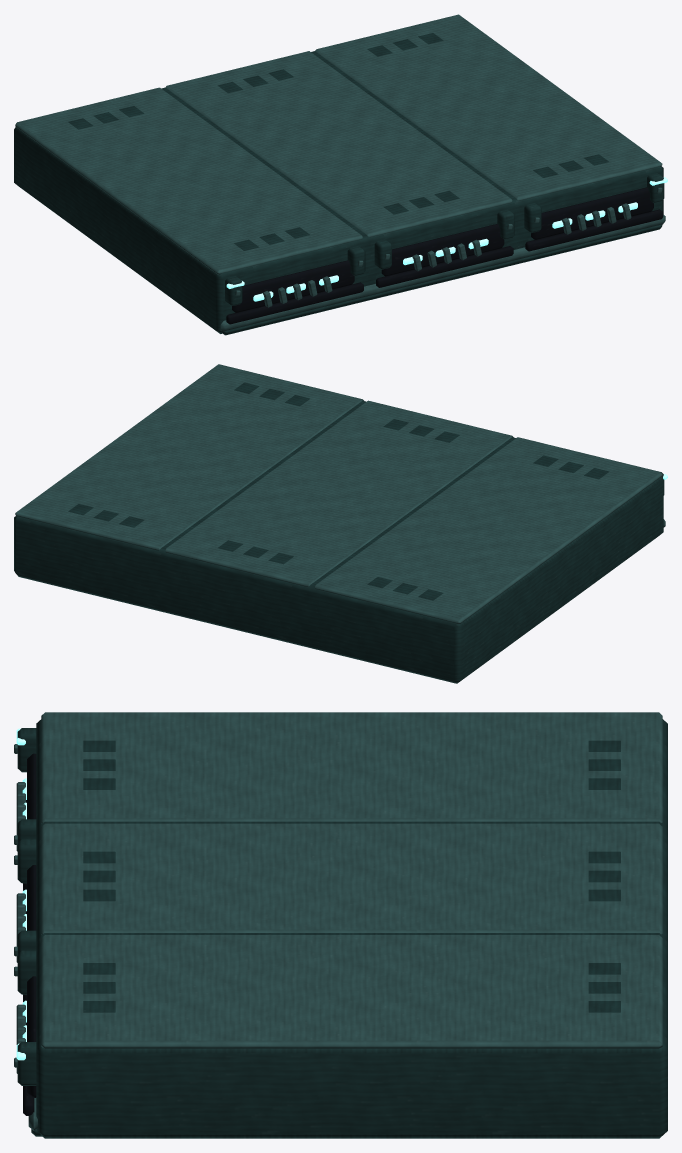
Rendered from abyssal_plant_deck.glb.
The picture shows the model from 3 angles, top to bottom: view 1: azimuth 30°, elevation 25°; view 2: azimuth 150°, elevation 25°; view 3: azimuth 270°, elevation 25°; orthographic projection. The views are drawn at different scales.
Visible parts, largest first — view 1: abyssal_plant_deck - abyssal_plant trim, abyssal_plant_deck - abyssal_plant panels, abyssal_plant_deck - Recessed iron, abyssal_plant_deck - abyssal_plant accents; view 2: abyssal_plant_deck - abyssal_plant trim, abyssal_plant_deck - abyssal_plant panels; view 3: abyssal_plant_deck - abyssal_plant trim, abyssal_plant_deck - abyssal_plant panels, abyssal_plant_deck - Recessed iron.
Part boxes in pixels (x1,y1,x2,y2): abyssal_plant_deck - abyssal_plant trim: (15, 14, 665, 331); abyssal_plant_deck - abyssal_plant panels: (14, 33, 664, 335); abyssal_plant_deck - Recessed iron: (226, 187, 663, 324); abyssal_plant_deck - abyssal_plant accents: (226, 177, 667, 301); abyssal_plant_deck - abyssal_plant trim: (15, 364, 665, 624); abyssal_plant_deck - abyssal_plant panels: (14, 382, 664, 683); abyssal_plant_deck - abyssal_plant trim: (14, 712, 662, 1130); abyssal_plant_deck - abyssal_plant panels: (17, 719, 667, 1138); abyssal_plant_deck - Recessed iron: (23, 753, 36, 1115).
Size of the model in its own units: 5.99 by 0.8325 by 4.97.
Materials: 4 (3 with a texture image).
